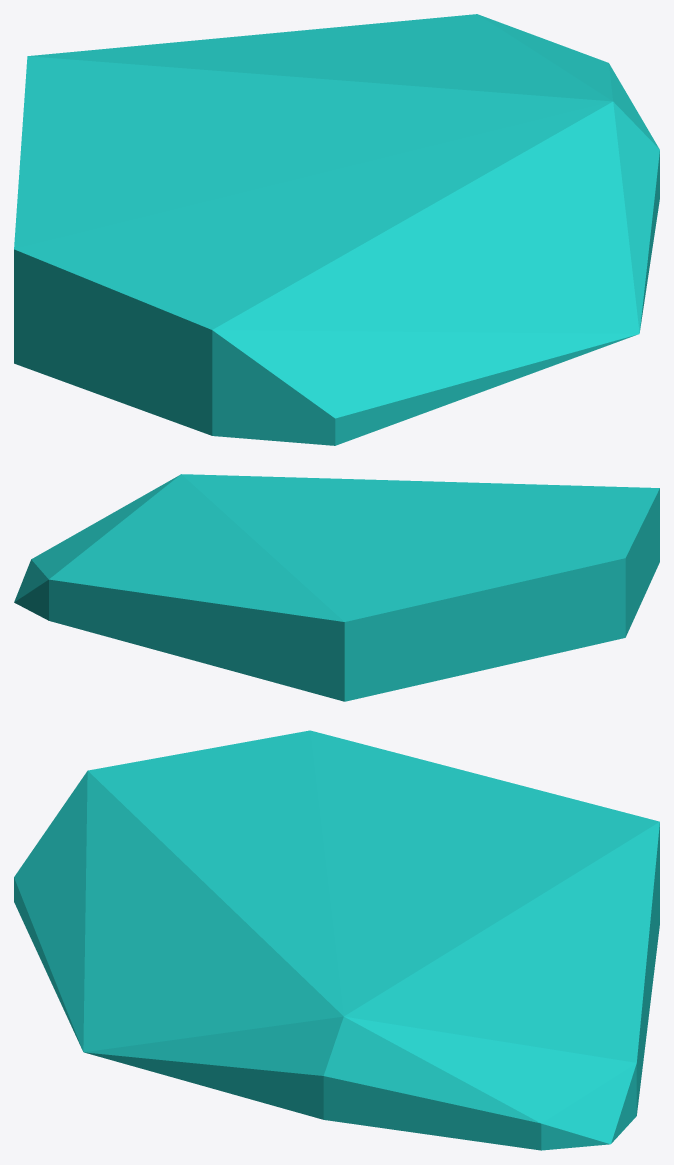
The model's file is Flat_03_Collider_01.FBX.
3 renders of one model, top to bottom at view 1: azimuth 30°, elevation 25°; view 2: azimuth 150°, elevation 25°; view 3: azimuth 270°, elevation 25°, orthographic. The views are drawn at different scales.
Parts seen in each view (by area): view 1: COLLIDER1; view 2: COLLIDER1; view 3: COLLIDER1.
Part boxes in pixels (x1,y1,x2,y2): COLLIDER1: (14,14,659,445); COLLIDER1: (14,474,659,701); COLLIDER1: (14,730,659,1150).
Bounding box in the file's own units: 268 × 40.39 × 230.
